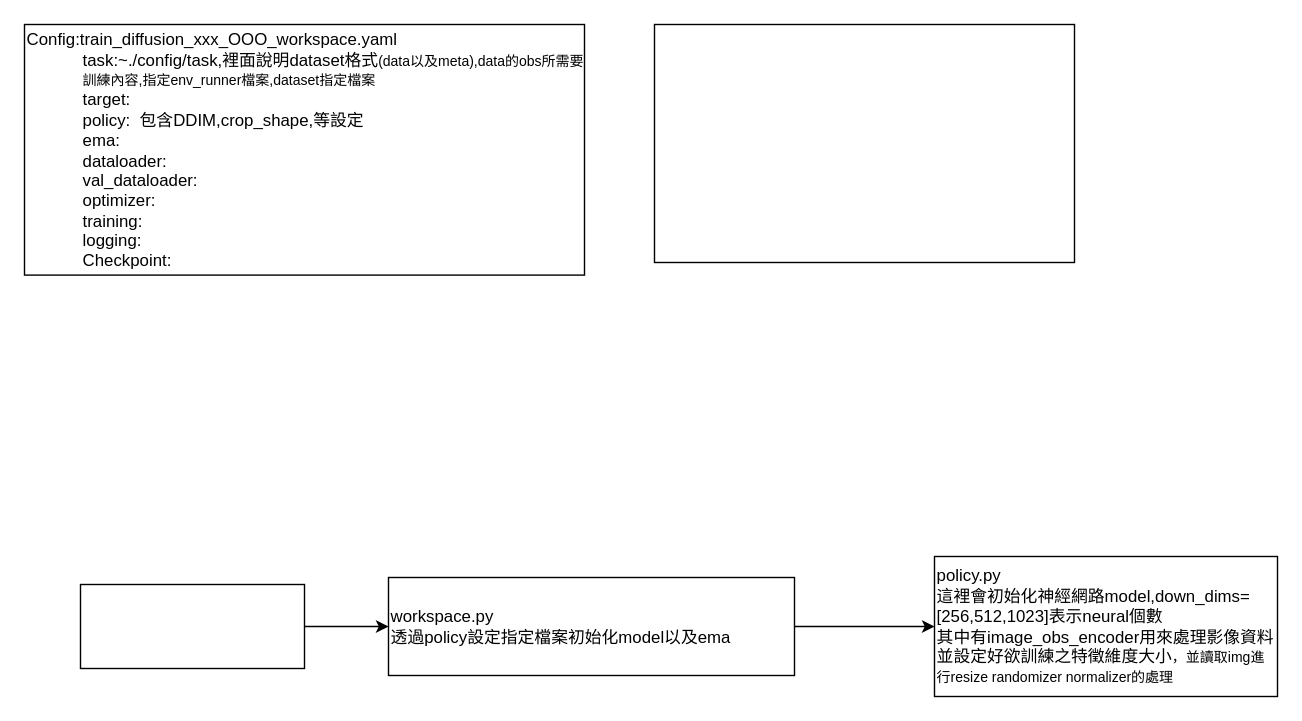
Image size: 1302x721. Some labels were removed from this diagram. Each missing label, with the centre of its shape:
"Task.xxx_ooo_dataset.py: 將dataset(ooxx.zarr)載入到cache中" belongs at [863,142].
"train.py main()讀取cfg中的_target_開始執行workspace" belongs at [191,625].
